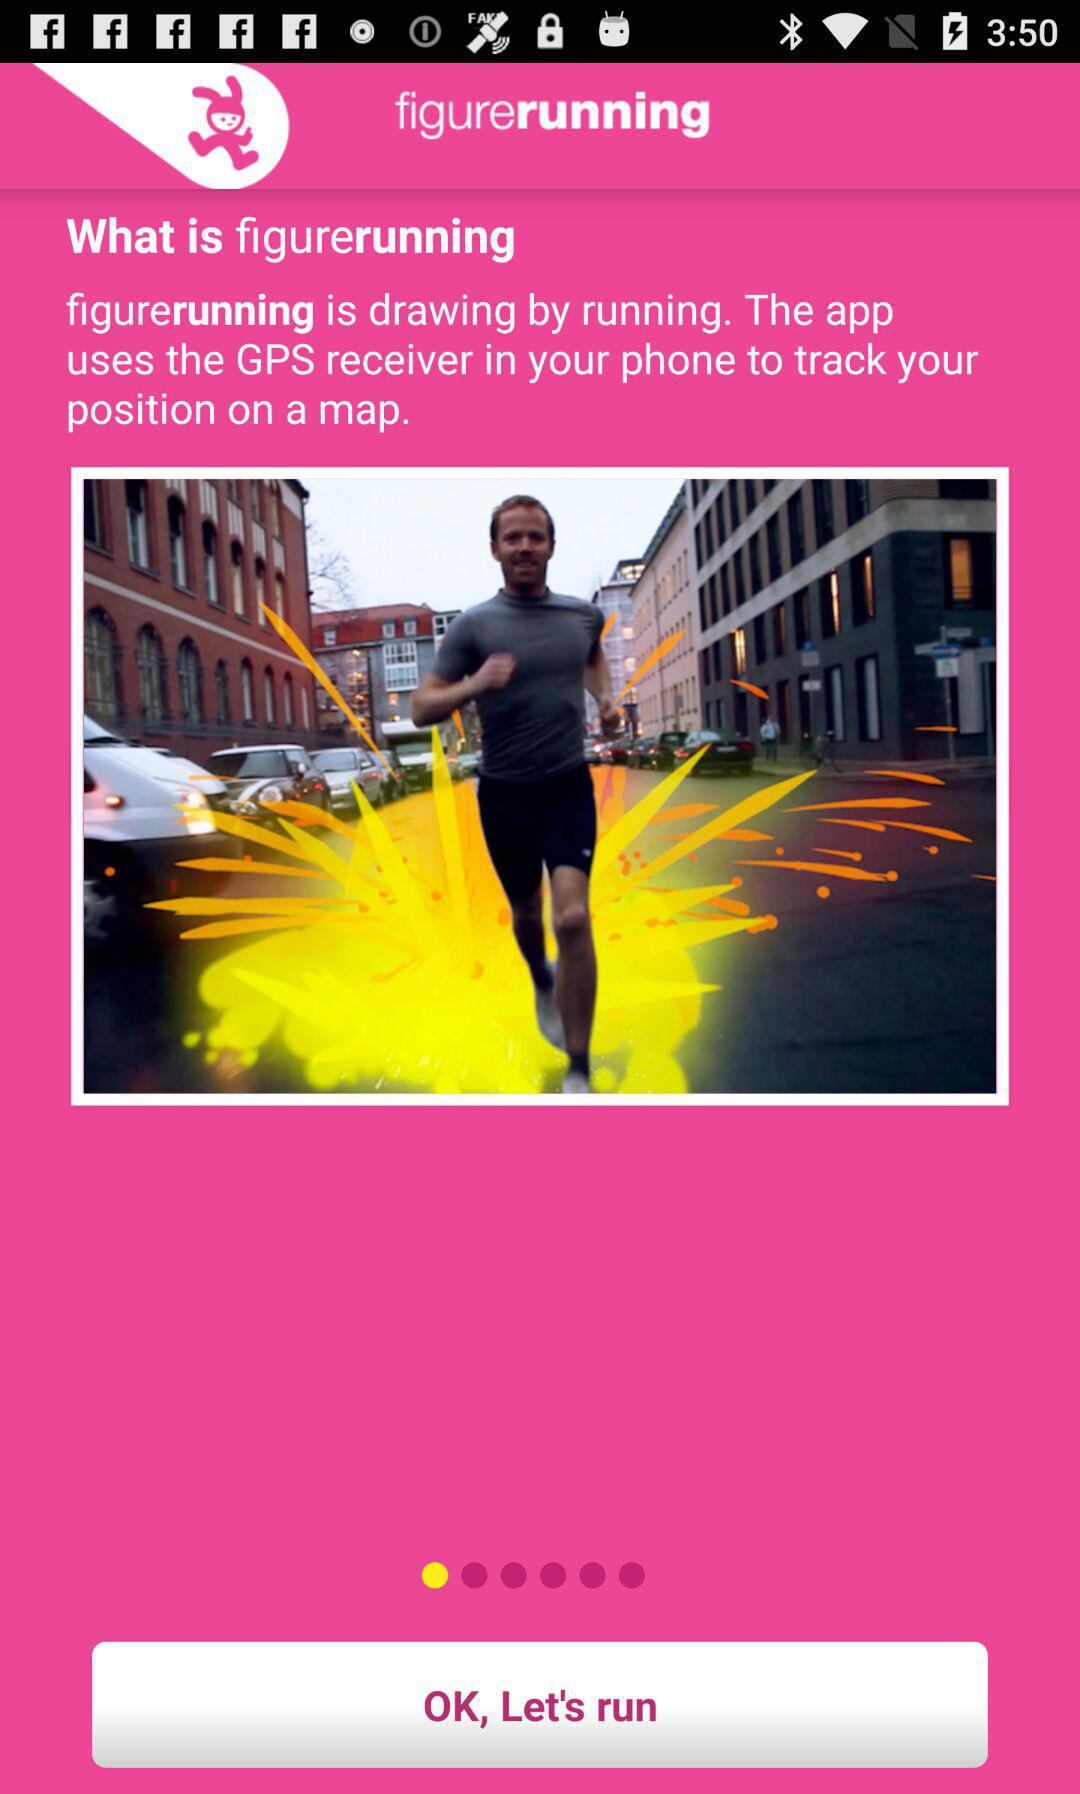Image: (70, 466, 1010, 1108), (29, 64, 291, 191)
PageIndicator: (421, 1561, 647, 1590)
Text: (67, 292, 980, 434), (67, 217, 516, 265), (395, 90, 711, 142)
TextButton: (92, 1642, 989, 1768)
UpperTaskBar: (1, 1, 1080, 64)
